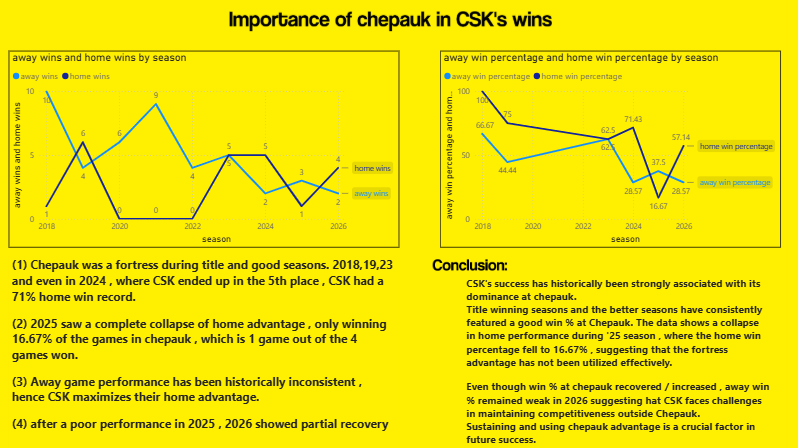

What the dashboard file says about the page in this screenshot:
{"tool":"powerbi","page":{"name":"Page 5","canvas":[1280,720],"ordinal":4},"visuals":[{"type":"lineChart","fields":{"Category":["5th slide full.season"],"Y":["Sum(5th slide full.away_wins)","Sum(5th slide full.home_wins)"]},"box":[21.7,88.3,618.3,311.7],"z":0},{"type":"lineChart","fields":{"Category":["5th slide full (2).season"],"Y":["Sum(5th slide full (2).away_win_pct)","Sum(5th slide full (2).home_win_pct)"]},"box":[705,88.3,540,311.7],"z":1000},{"type":"image","box":[371.7,18.3,510,46.7],"z":2000},{"type":"textbox","box":[22,410,618,310],"z":3000},{"type":"textbox","box":[741.7,440,491.7,280],"z":4000},{"type":"image","box":[693.3,348.3,118.3,158.3],"z":5000}]}

Visuals, with their boxes in screenshot pixels (x1, y1, x2, y2), scaled from the page's 1280x720 canvas onto the 798x448 screenshot:
lineChart - 5th slide full.season x Sum(5th slide full.away_wins): box(14, 55, 399, 249)
lineChart - 5th slide full (2).season x Sum(5th slide full (2).away_win_pct): box(440, 55, 776, 249)
image: box(232, 11, 550, 40)
textbox: box(14, 255, 399, 447)
textbox: box(462, 274, 769, 447)
image: box(432, 217, 506, 315)
